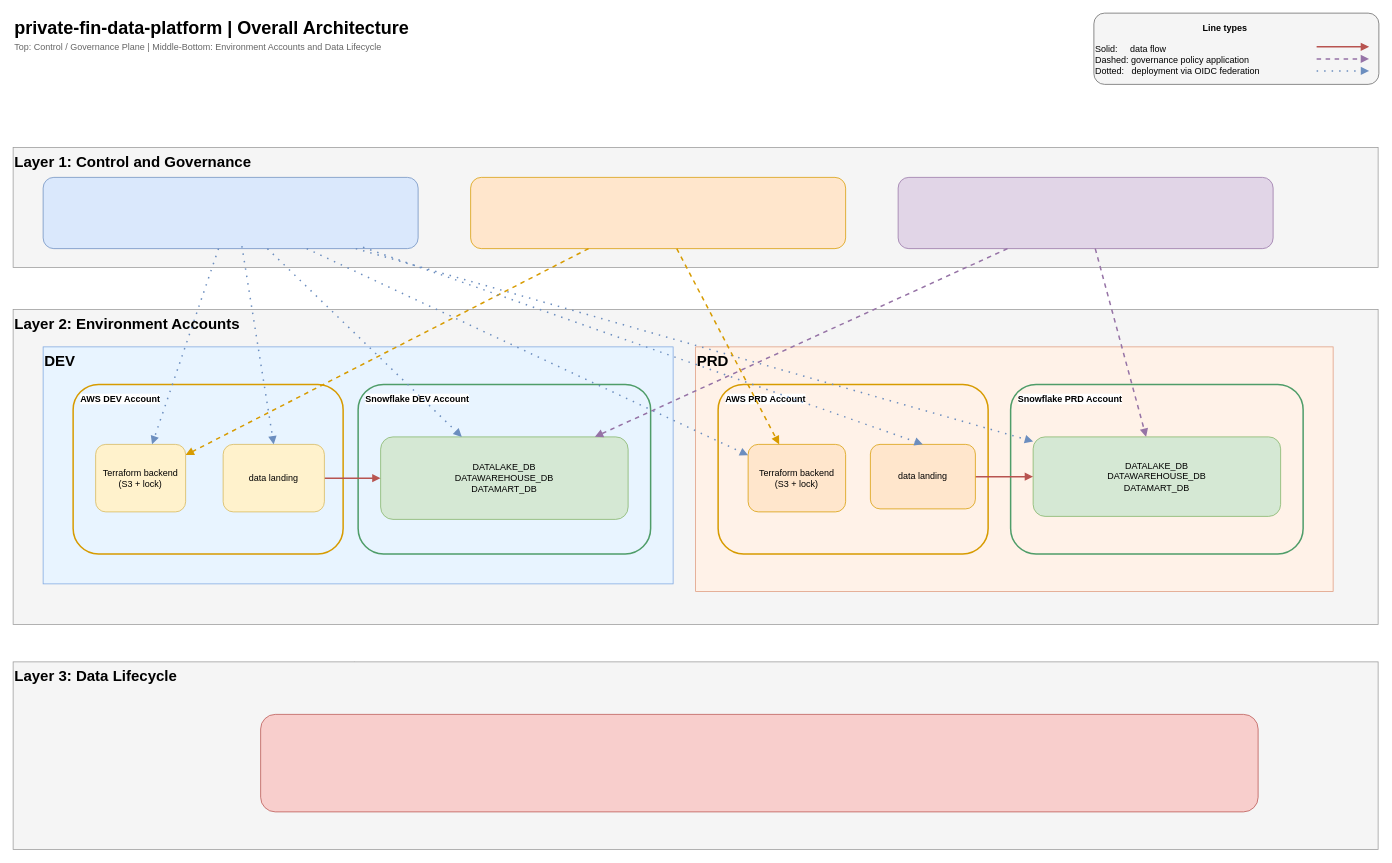
The diagram is 1392 pixels wide and 863 high, and some of its shapes have lost their labels. The shapes that lost their labels are listed below. From the top down, each one's centre as x and y in pixels, then its label:
At (230,213): "GitHub - Repository - Actions workflows - PR-based validation".
At (658,213): "AWS Management Account - Organizations - StackSets (tfstate bucket provisioning)".
At (1085,213): "Snowflake Organization Account - Org governance - Cost policy (Resource Monitor)".
At (759,763): "raw -> datawarehouse -> datamart TBD".
